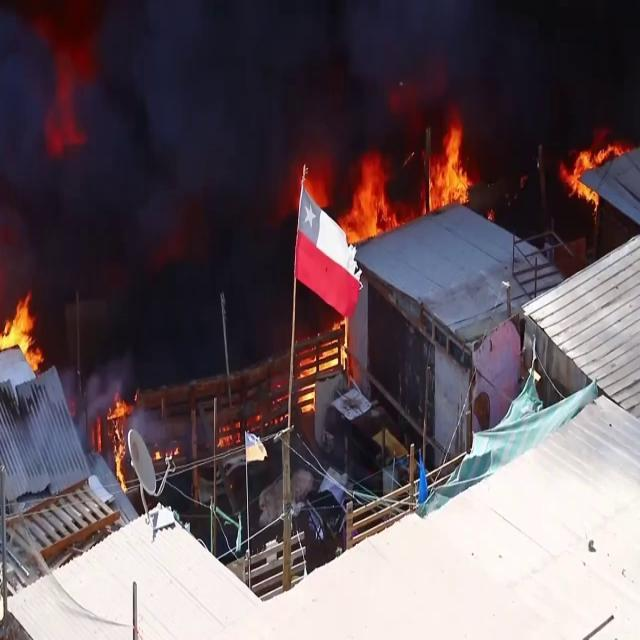Fire: (343, 147, 399, 243), (560, 131, 626, 209), (425, 114, 475, 212), (296, 318, 344, 416), (0, 288, 44, 367), (105, 390, 136, 490)
Smoke: (0, 0, 354, 299)
